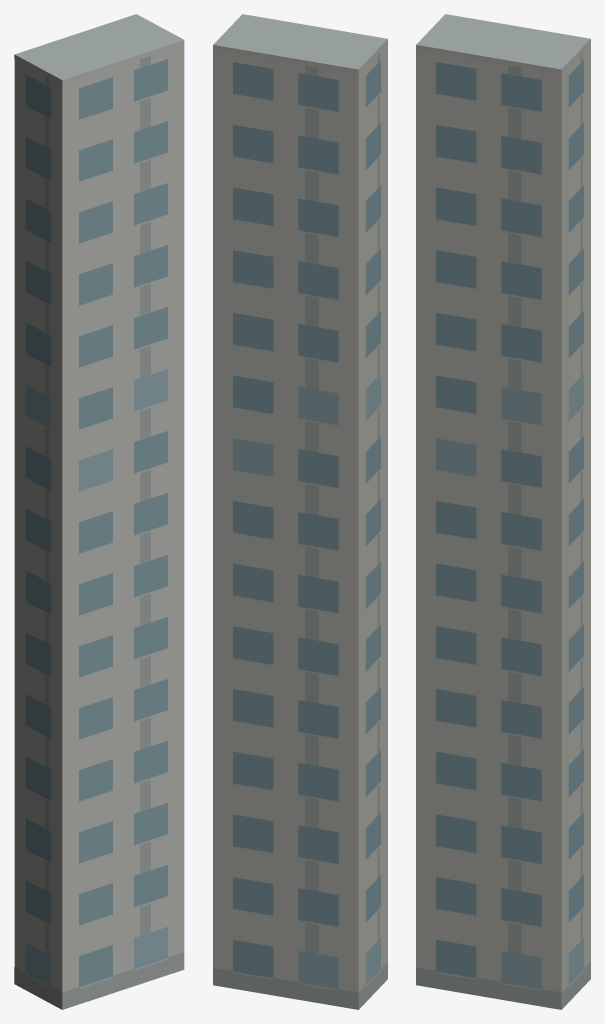
File: survey-upis-32942866.glb
3 renders of one model, left to right at view 1: azimuth 30°, elevation 25°; view 2: azimuth 150°, elevation 25°; view 3: azimuth 330°, elevation 25°, orthographic.
Parts seen in each view (by area): view 1: survey-upis-32942866.tmp; view 2: survey-upis-32942866.tmp; view 3: survey-upis-32942866.tmp.
Part boxes in pixels (left/top/right/bottom): survey-upis-32942866.tmp: left=14, top=14, right=184, bottom=1009; survey-upis-32942866.tmp: left=213, top=14, right=387, bottom=1009; survey-upis-32942866.tmp: left=416, top=14, right=590, bottom=1009.
Bounding box in the file's own units: 7.34 × 45.75 × 4.41.
